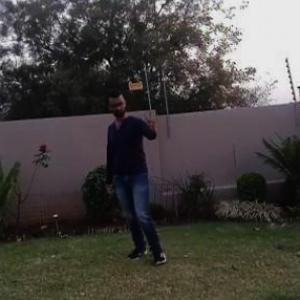takeoff-hand: (140, 104, 162, 133)
